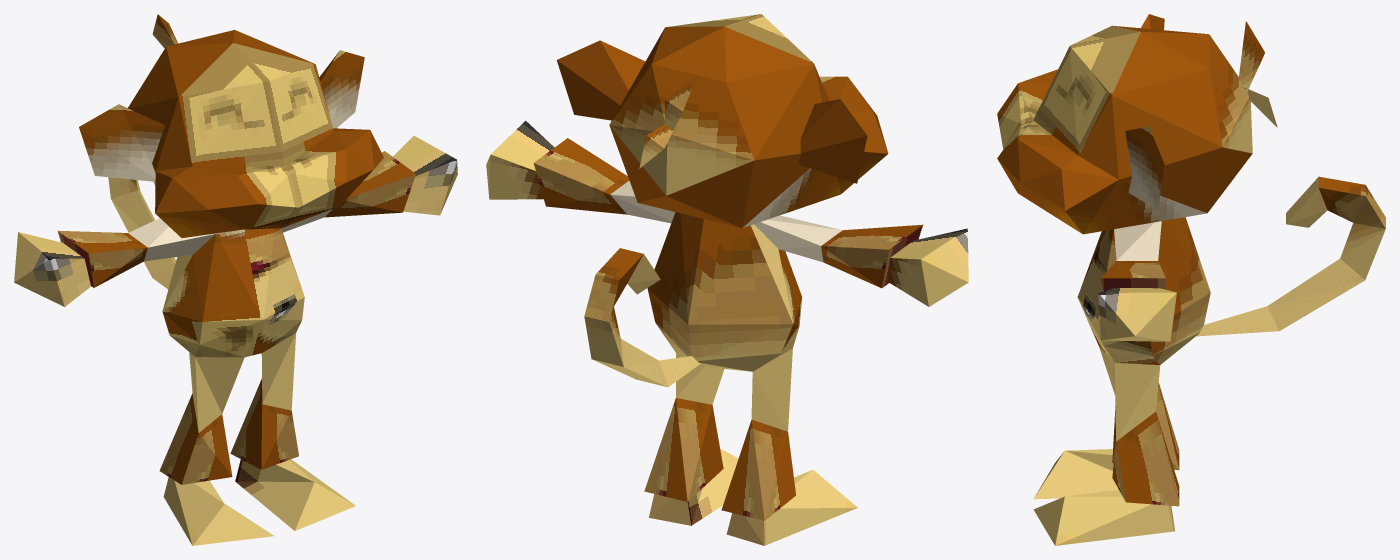
Rendered from monkey.obj.
The picture shows the model from 3 angles, left to right: view 1: azimuth 30°, elevation 25°; view 2: azimuth 150°, elevation 25°; view 3: azimuth 270°, elevation 25°; orthographic projection. The views are drawn at different scales.
Visible parts, largest first — view 1: skl_root, head_01, arm_l_02, leg_r_01, arm_r_02, ankle_r_01, arm_r_01, ankle_l_01, leg_l_02, leg_l_01, arm_l_01, tail_01; view 2: skl_root, head_01, arm_l_02, arm_r_02, arm_r_01, leg_r_01, ankle_r_01, tail_02, arm_l_01, leg_l_02, leg_l_01, tail_01; view 3: skl_root, head_01, tail_02, arm_l_02, leg_l_01, ankle_l_01, arm_l_01, leg_r_01.
Boxes of the visible parts, x1,y1,x2,y2 form: skl_root: [14, 14, 415, 545]; head_01: [79, 14, 383, 229]; arm_l_02: [364, 135, 457, 215]; leg_r_01: [159, 353, 232, 476]; arm_r_02: [14, 231, 147, 306]; ankle_r_01: [163, 477, 273, 545]; arm_r_01: [18, 218, 214, 261]; ankle_l_01: [235, 459, 355, 530]; leg_l_02: [230, 404, 298, 469]; leg_l_01: [262, 320, 301, 410]; arm_l_01: [309, 201, 401, 217]; tail_01: [111, 199, 172, 277]; skl_root: [533, 14, 968, 545]; head_01: [557, 14, 888, 227]; arm_l_02: [486, 120, 609, 199]; arm_r_02: [821, 225, 928, 306]; arm_r_01: [761, 219, 966, 262]; leg_r_01: [751, 348, 791, 520]; ankle_r_01: [726, 470, 857, 545]; tail_02: [584, 259, 660, 366]; arm_l_01: [546, 180, 671, 223]; leg_l_02: [688, 405, 723, 501]; leg_l_01: [676, 365, 724, 404]; tail_01: [594, 360, 667, 387]; skl_root: [997, 14, 1385, 545]; head_01: [997, 14, 1277, 233]; tail_02: [1267, 177, 1385, 330]; arm_l_02: [1098, 261, 1176, 341]; leg_l_01: [1099, 346, 1178, 505]; ankle_l_01: [1033, 496, 1174, 545]; arm_l_01: [1117, 221, 1161, 260]; leg_r_01: [1112, 384, 1178, 469].
Size of the model in its own units: 13.45 by 13.11 by 9.77.
Materials: 1 (1 with a texture image).
